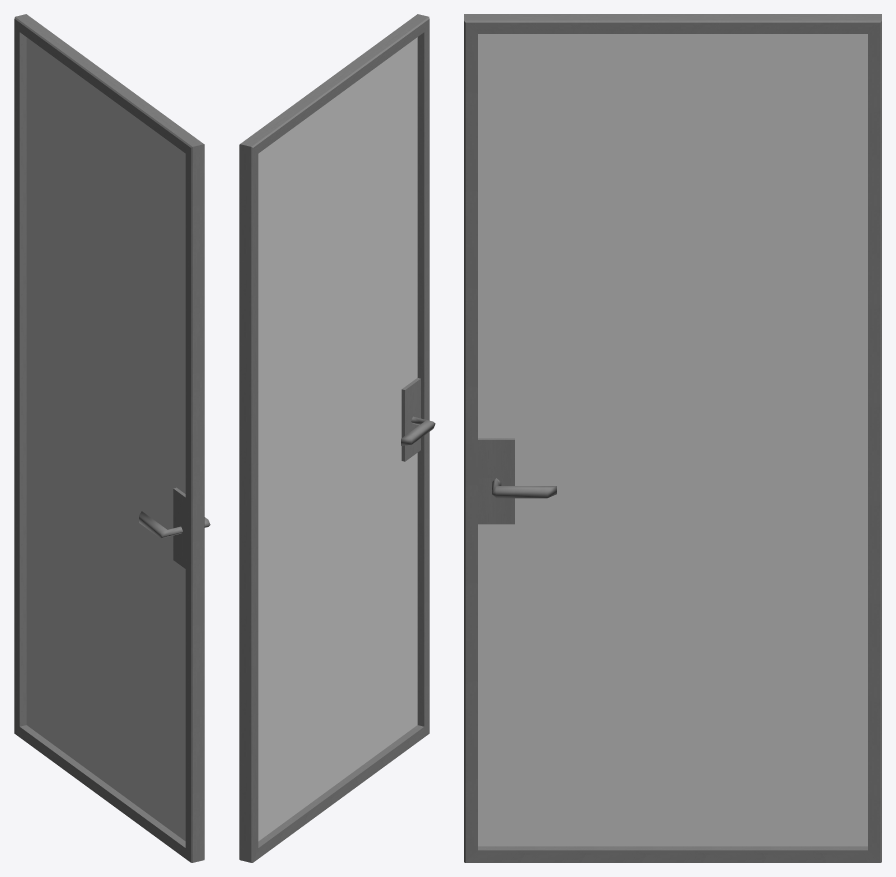
File: GlassDoor.glb
3 views of the same model, side by side, from view 1: azimuth 30°, elevation 25°; view 2: azimuth 150°, elevation 25°; view 3: azimuth 270°, elevation 25° (orthographic). The views are drawn at different scales.
Visible parts, largest first — view 1: glass door; view 2: glass door; view 3: glass door.
Part boxes in pixels (left/top/right/bottom): glass door: left=14, top=14, right=210, bottom=862; glass door: left=239, top=14, right=435, bottom=862; glass door: left=464, top=14, right=881, bottom=862.
Bounding box in the file's own units: 0.14 × 2 × 0.9.
Materials: 2 (1 with a texture image).
